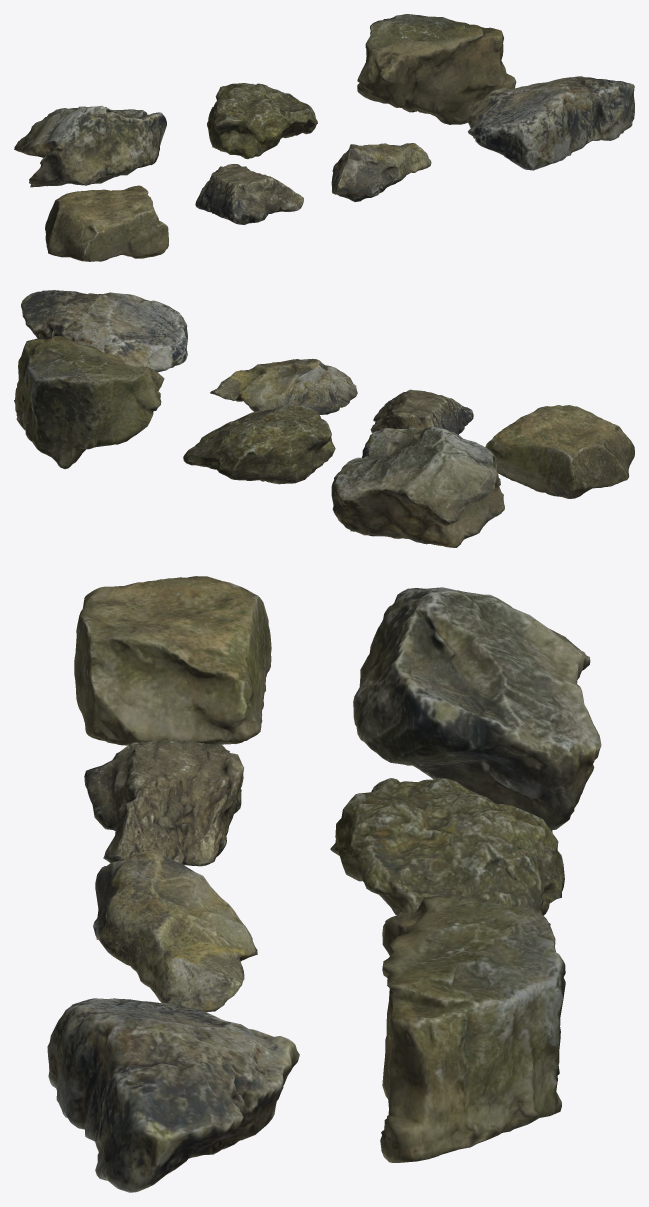
Rendered from rock_moss_set_02.glb.
3 renders of one model, top to bottom at view 1: azimuth 30°, elevation 25°; view 2: azimuth 150°, elevation 25°; view 3: azimuth 270°, elevation 25°, orthographic. The views are drawn at different scales.
Parts seen in each view (by area): view 1: rock_moss_set_02_rock13, rock_moss_set_02_rock10, rock_moss_set_02_rock11, rock_moss_set_02_rock07, rock_moss_set_02_rock12, rock_moss_set_02_rock08, rock_moss_set_02_rock09; view 2: rock_moss_set_02_rock11, rock_moss_set_02_rock13, rock_moss_set_02_rock07, rock_moss_set_02_rock10, rock_moss_set_02_rock12, rock_moss_set_02_rock09, rock_moss_set_02_rock08; view 3: rock_moss_set_02_rock13, rock_moss_set_02_rock11, rock_moss_set_02_rock10, rock_moss_set_02_rock07, rock_moss_set_02_rock12, rock_moss_set_02_rock09, rock_moss_set_02_rock08.
Boxes of the visible parts, bbox=[...] form: rock_moss_set_02_rock13: bbox=[357, 14, 516, 124]; rock_moss_set_02_rock10: bbox=[467, 76, 634, 170]; rock_moss_set_02_rock11: bbox=[14, 105, 166, 187]; rock_moss_set_02_rock07: bbox=[45, 185, 168, 261]; rock_moss_set_02_rock12: bbox=[207, 83, 317, 159]; rock_moss_set_02_rock08: bbox=[195, 164, 303, 224]; rock_moss_set_02_rock09: bbox=[331, 143, 431, 201]; rock_moss_set_02_rock11: bbox=[331, 426, 504, 547]; rock_moss_set_02_rock13: bbox=[14, 336, 164, 469]; rock_moss_set_02_rock07: bbox=[485, 405, 634, 498]; rock_moss_set_02_rock10: bbox=[21, 290, 187, 372]; rock_moss_set_02_rock12: bbox=[183, 405, 335, 484]; rock_moss_set_02_rock09: bbox=[210, 358, 357, 414]; rock_moss_set_02_rock08: bbox=[370, 389, 473, 434]; rock_moss_set_02_rock13: bbox=[380, 894, 565, 1162]; rock_moss_set_02_rock11: bbox=[353, 587, 601, 832]; rock_moss_set_02_rock10: bbox=[47, 998, 299, 1192]; rock_moss_set_02_rock07: bbox=[74, 576, 271, 745]; rock_moss_set_02_rock12: bbox=[330, 778, 564, 925]; rock_moss_set_02_rock09: bbox=[93, 850, 257, 1012]; rock_moss_set_02_rock08: bbox=[84, 740, 243, 866].
Bounding box in the file's own units: 8.28 × 1.37 × 3.41.
1 material, 1 textured.
